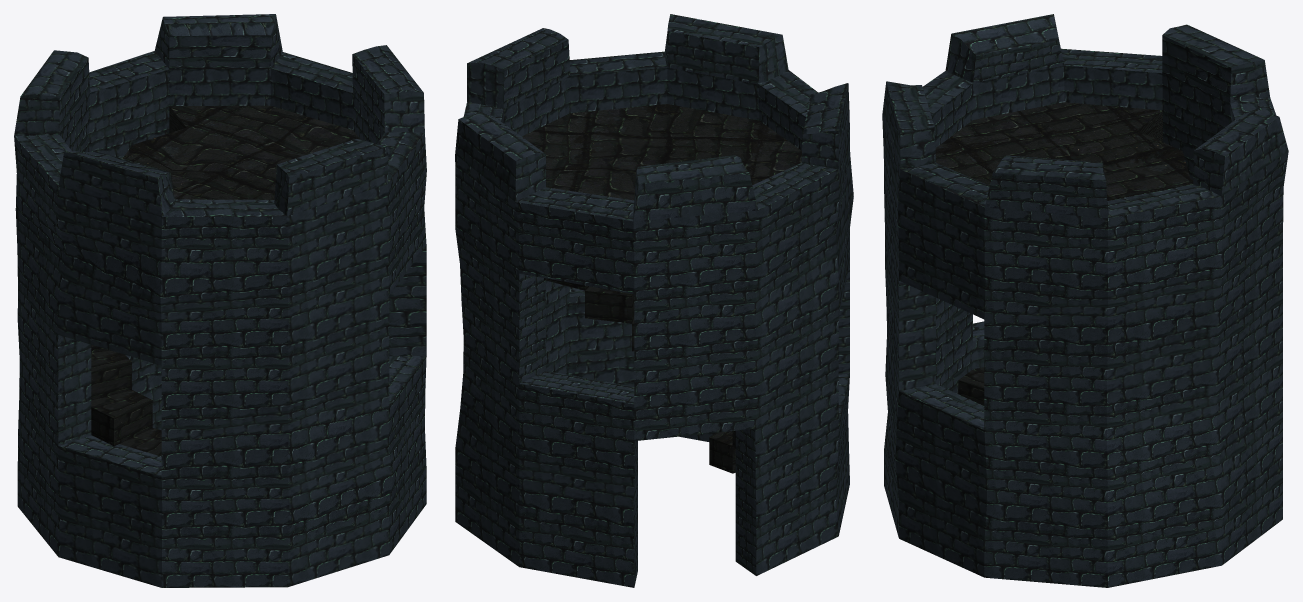
Rendered from Fort.fbx.
The picture shows the model from 3 angles, left to right: view 1: azimuth 30°, elevation 25°; view 2: azimuth 150°, elevation 25°; view 3: azimuth 270°, elevation 25°; orthographic projection.
Parts seen in each view (by area): view 1: FortMain, ForTopFloor, Stair; view 2: FortMain, ForTopFloor, Stair; view 3: FortMain, ForTopFloor, Stair.
Part boxes in pixels (x1,y1,x2,y2): FortMain: (14, 14, 426, 587); ForTopFloor: (122, 105, 360, 199); Stair: (91, 345, 161, 456); FortMain: (455, 14, 853, 587); ForTopFloor: (522, 104, 801, 200); Stair: (544, 278, 735, 473); FortMain: (882, 14, 1288, 587); ForTopFloor: (935, 102, 1193, 200); Stair: (958, 367, 984, 405).
Size of the model in its own units: 9.96 by 11.13 by 9.99.
